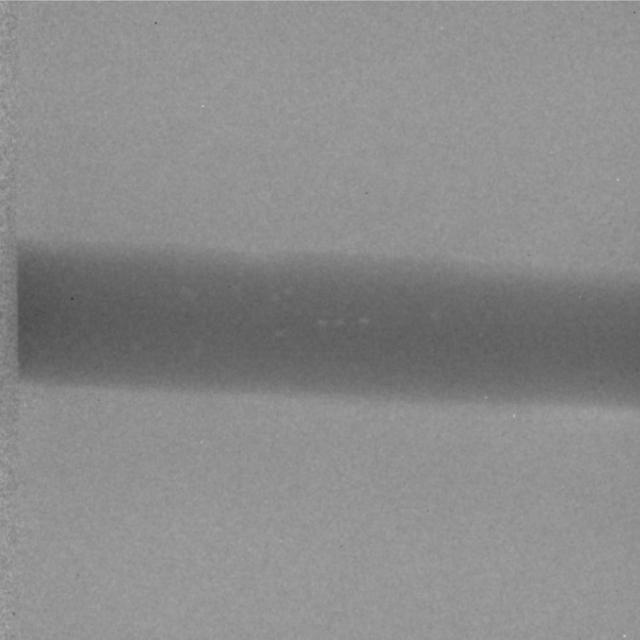air-hole: (183, 285, 198, 302), (195, 336, 204, 356), (133, 339, 140, 355), (274, 328, 285, 338), (314, 319, 327, 326), (335, 319, 345, 328), (360, 316, 368, 325), (273, 293, 279, 301), (430, 310, 435, 319), (287, 288, 292, 295), (485, 394, 488, 399)
